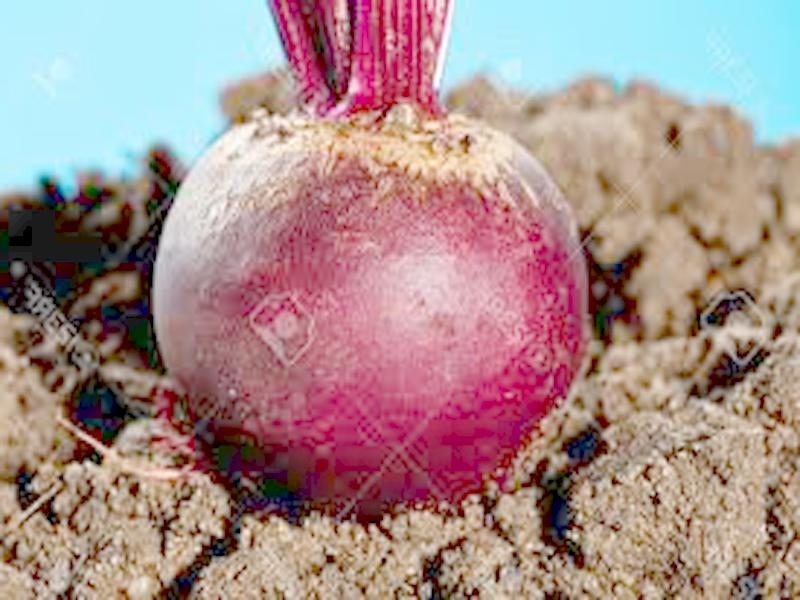Beet: (150, 3, 587, 511)
